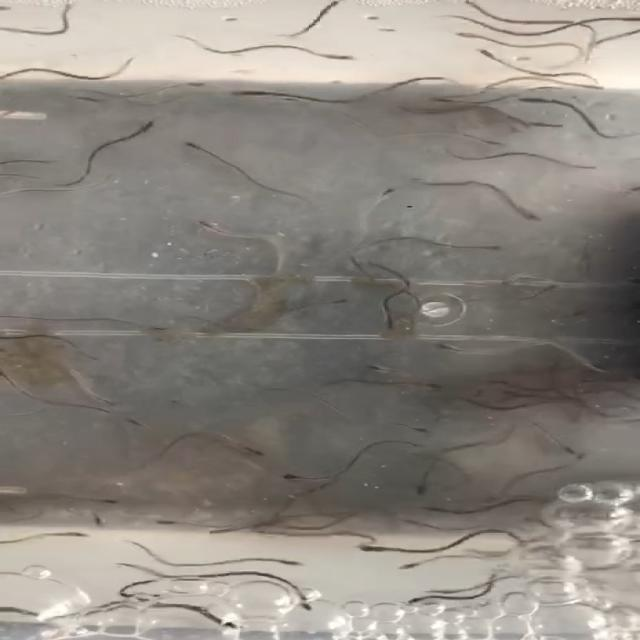active_glass_eel: (204, 613, 247, 631), (393, 517, 440, 532), (497, 273, 536, 291), (91, 494, 130, 511), (416, 504, 466, 517), (145, 518, 199, 530), (66, 95, 109, 110), (80, 508, 110, 529), (353, 541, 398, 555), (200, 523, 251, 535), (417, 478, 446, 499), (448, 30, 487, 45), (565, 444, 594, 464), (127, 117, 159, 135), (294, 590, 319, 613), (191, 222, 229, 237), (316, 50, 356, 64), (398, 592, 432, 608), (91, 391, 129, 405), (54, 528, 92, 542), (225, 88, 265, 101), (470, 136, 507, 150), (474, 47, 504, 64), (375, 314, 403, 332), (575, 80, 611, 94), (394, 557, 427, 572), (180, 138, 210, 154), (370, 185, 400, 201), (435, 341, 469, 355), (238, 442, 272, 456), (572, 159, 608, 172), (399, 424, 435, 437), (276, 554, 312, 567), (517, 94, 559, 105), (367, 362, 404, 374), (470, 241, 510, 252), (138, 322, 178, 333), (540, 283, 568, 298), (412, 380, 458, 389), (281, 474, 322, 484), (519, 207, 542, 224), (114, 416, 144, 428), (324, 299, 359, 309), (188, 76, 212, 90), (617, 12, 640, 22)
